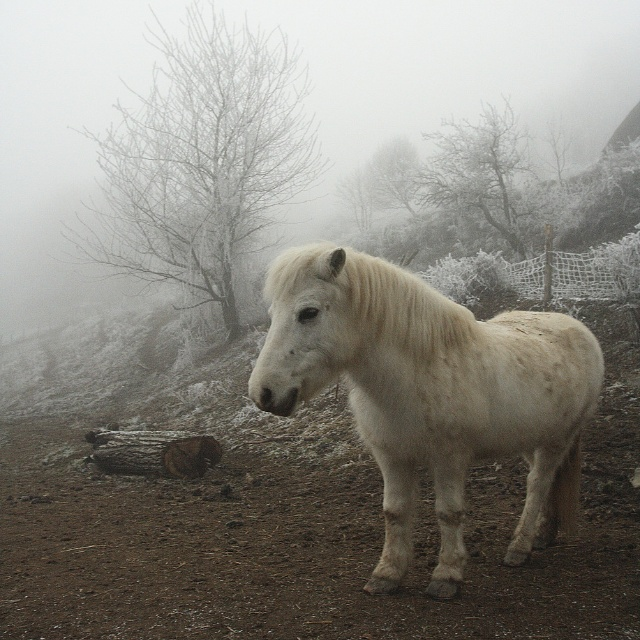Horse: (245, 242, 610, 605)
